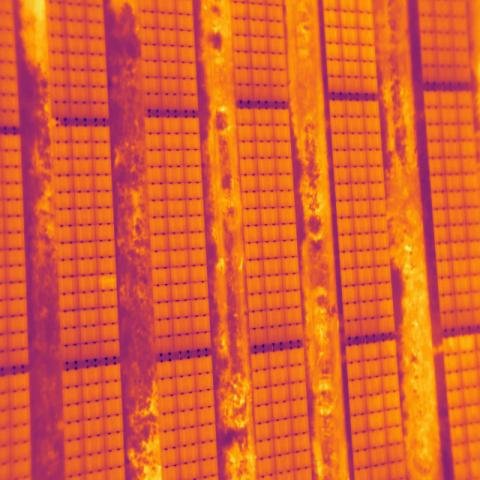fault: (97, 272, 117, 293)
